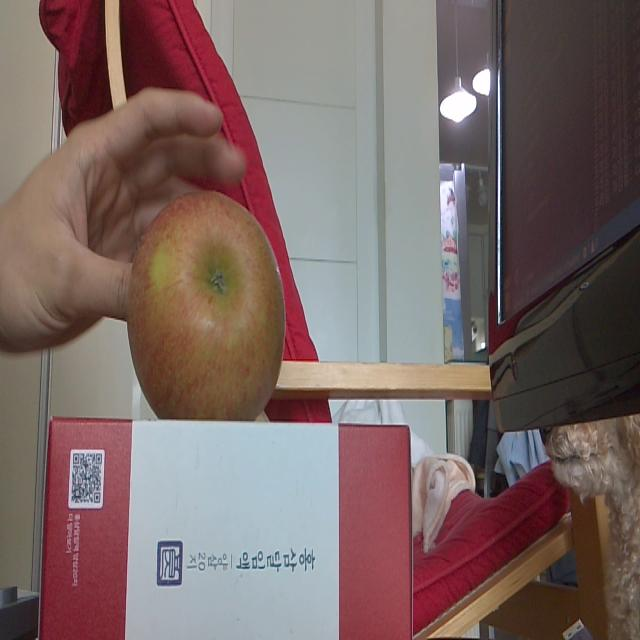apple: (129, 188, 286, 420)
